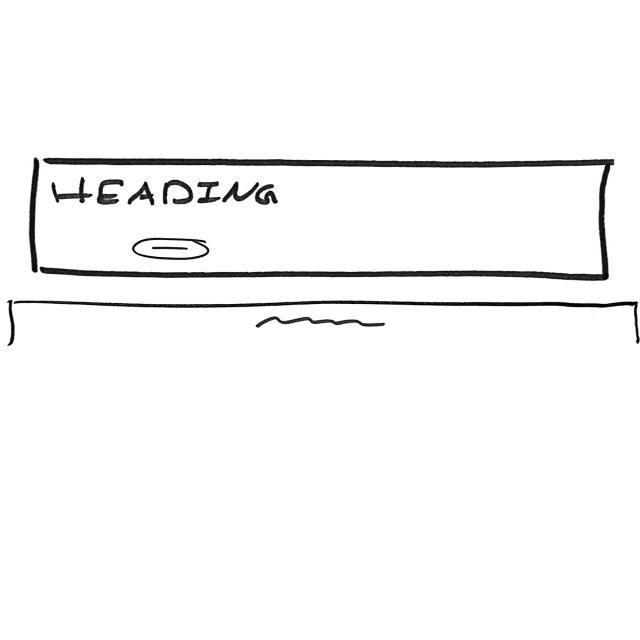container: (29, 156, 614, 284)
icon-button: (130, 237, 212, 263)
label: (51, 177, 283, 208)
text: (254, 316, 391, 332)
